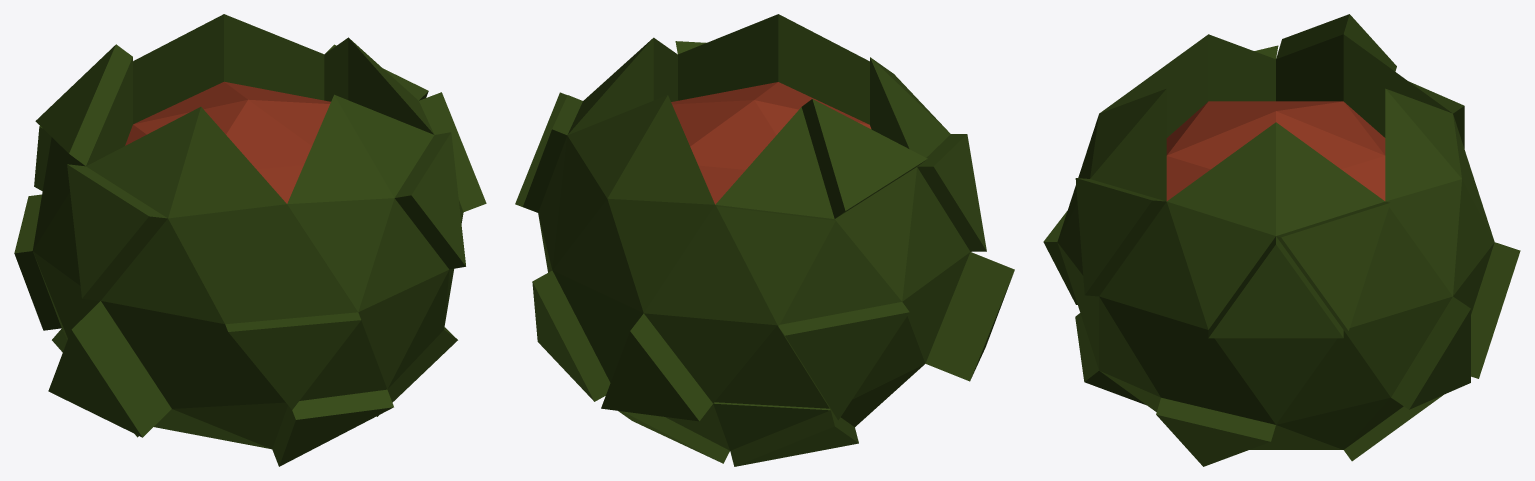
Rendered from Cactus_02.glb.
3 views of the same model, side by side, from view 1: azimuth 30°, elevation 25°; view 2: azimuth 150°, elevation 25°; view 3: azimuth 270°, elevation 25° (orthographic).
Visible parts, largest first — view 1: Icosphere; view 2: Icosphere; view 3: Icosphere.
Part boxes in pixels (<box>): Icosphere: <box>14,14,486,466</box>; Icosphere: <box>515,14,1014,466</box>; Icosphere: <box>1043,14,1520,466</box>.
Size of the model in its own units: 2.22 by 1.92 by 2.18.
